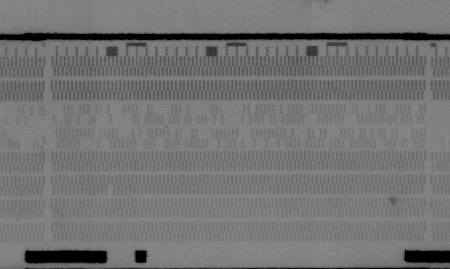Broken hole: (1, 101, 450, 152), (106, 187, 117, 198)
Oblique printing: (172, 231, 186, 246), (12, 209, 22, 222)
